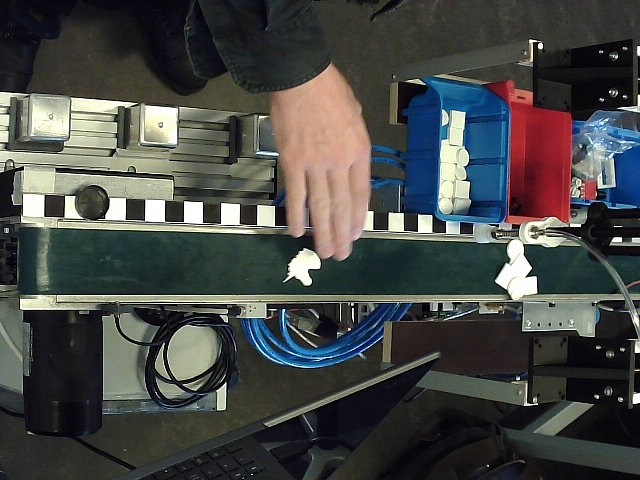unicorn: (283, 248, 322, 288)
